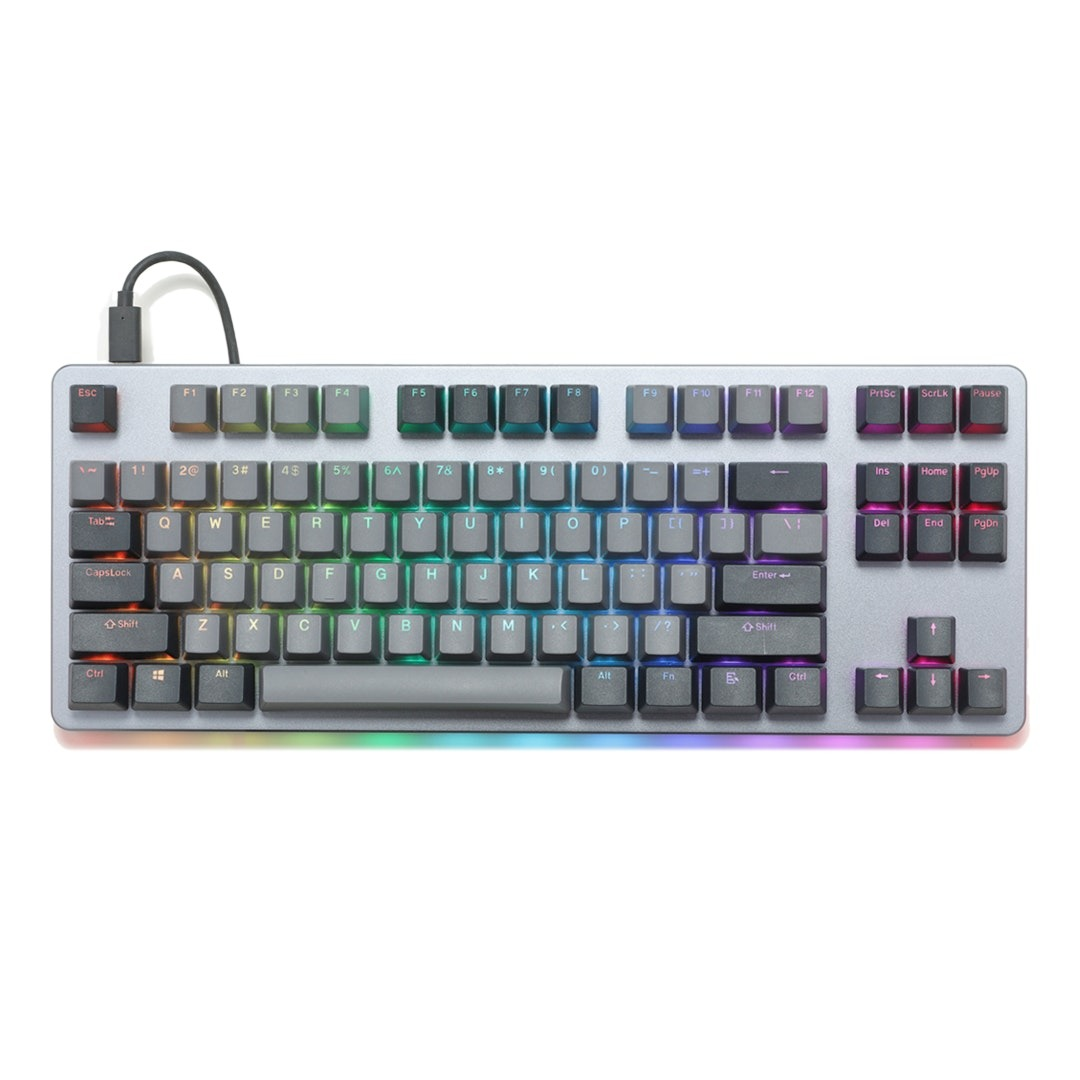keyboard: (28, 350, 1052, 771)
